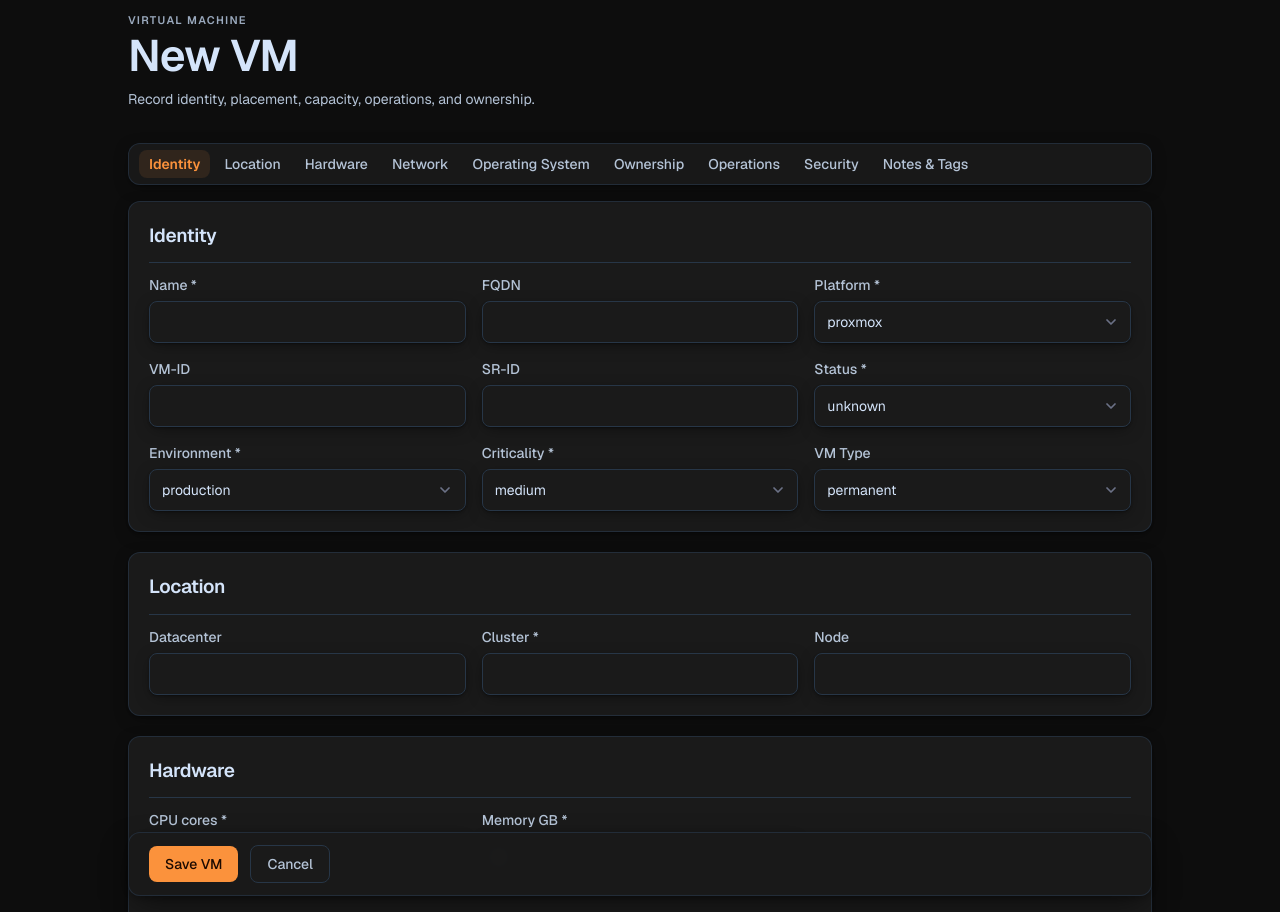
Test: VmFormPage combo/owner autocomplete › suggests datacenter options and applies the chosen one
This screenshot has width=1280, height=912.
In the dropdown labelled "Datacenter": (307, 674) [149,653,466,695], type "dc-east"
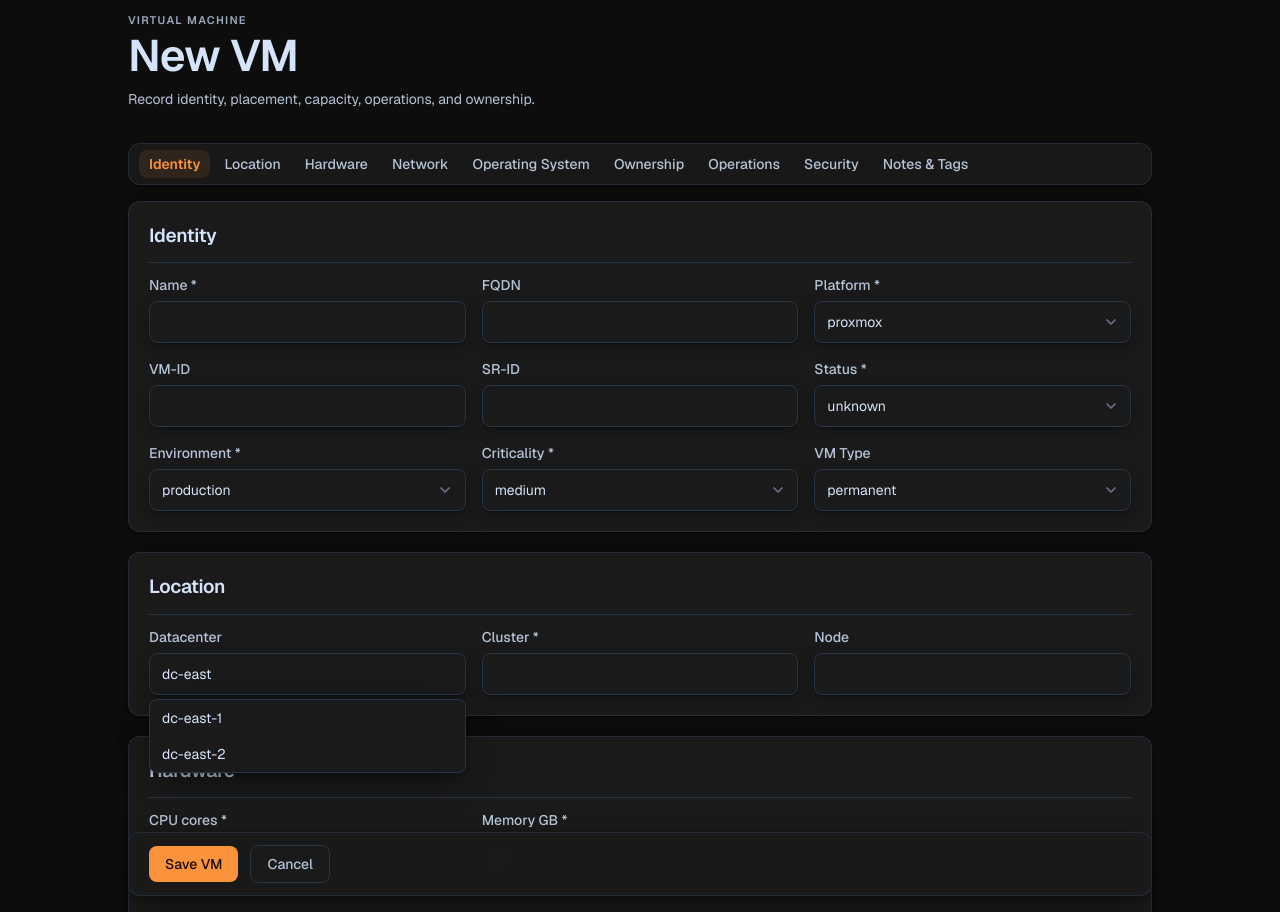
Click the button "dc-east-2": click(194, 754) [150,736,465,772]
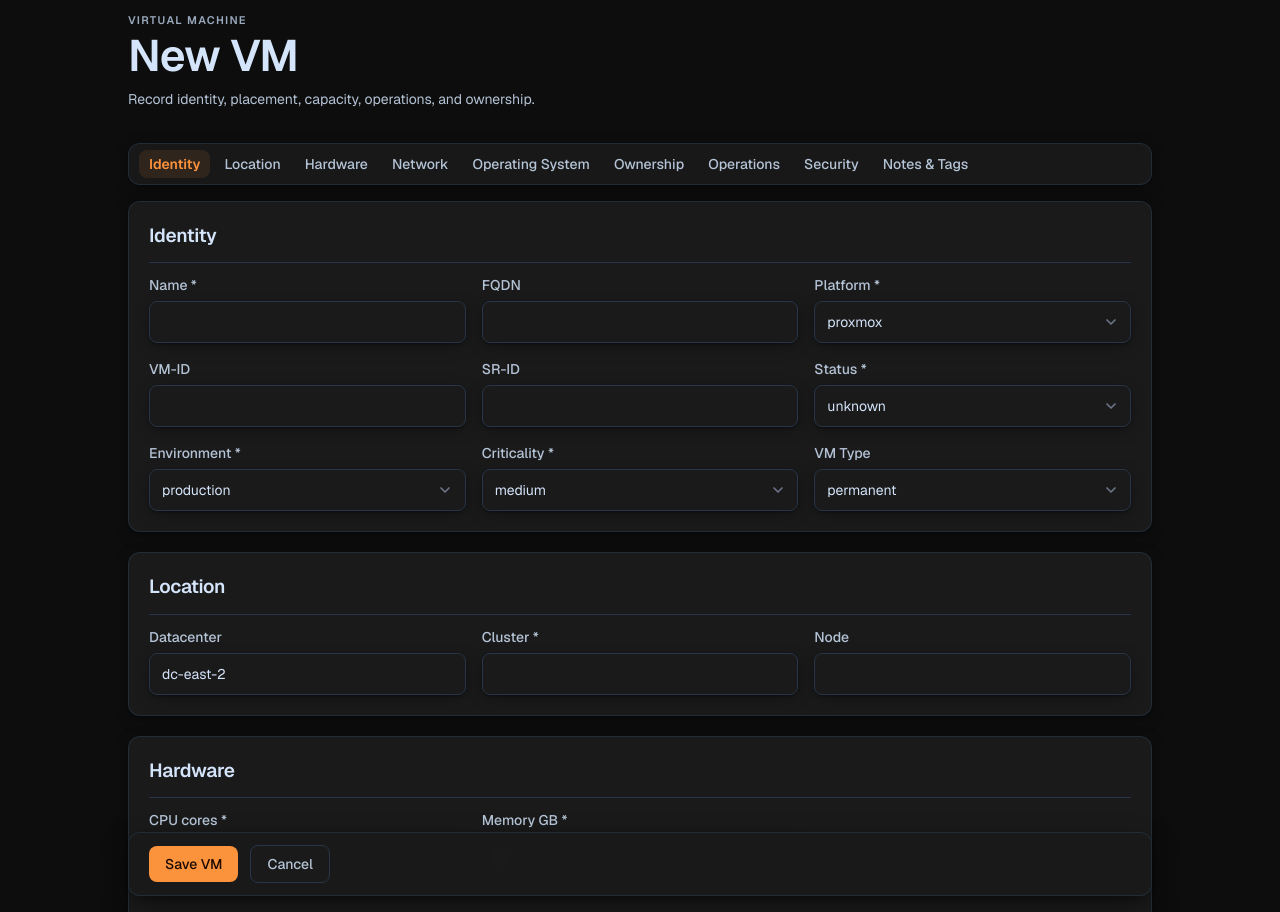
Check: the dropdown labelled "Datacenter" holds "dc-east-2", box [149,653,466,695]
